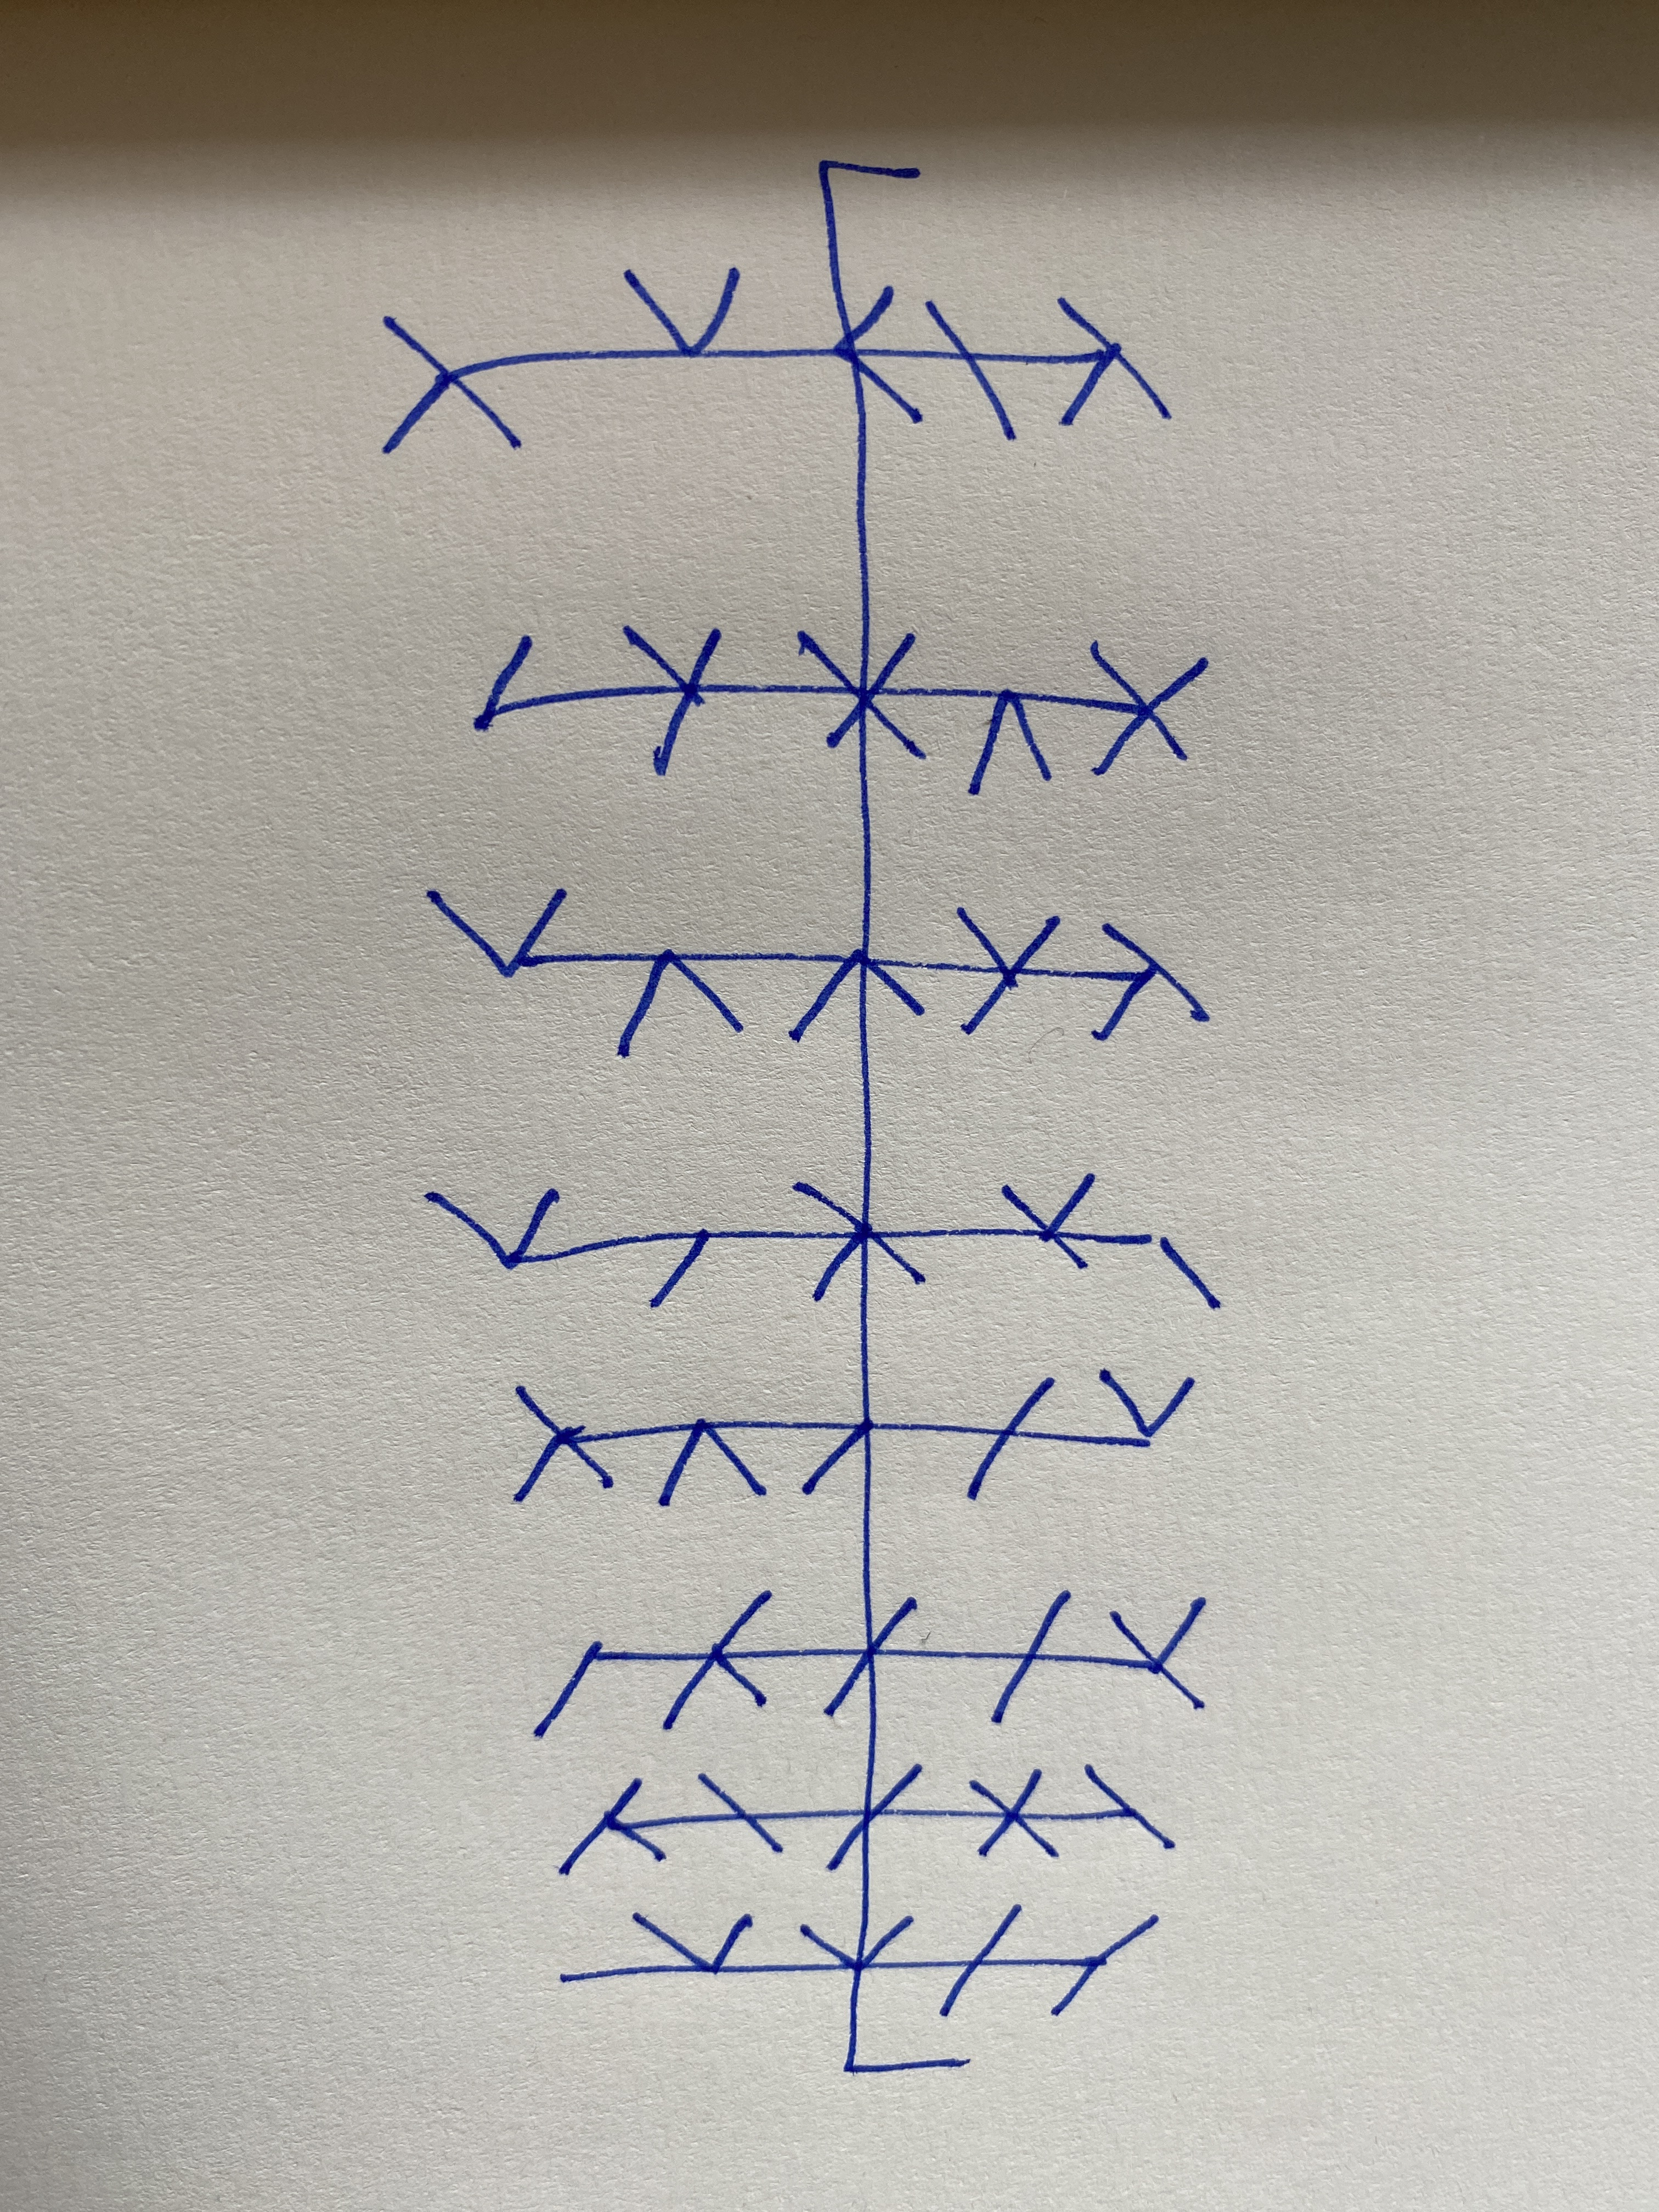Bar: (382, 266, 1173, 455), (425, 890, 1213, 1057), (474, 624, 1211, 796), (423, 1172, 1216, 1308), (528, 1588, 1206, 1738), (511, 1367, 1195, 1505), (558, 1763, 1175, 1878), (563, 1905, 1161, 2015)
Barcode: (380, 158, 1218, 2076)
End: (843, 2019, 974, 2076)
Start: (816, 158, 922, 284)
